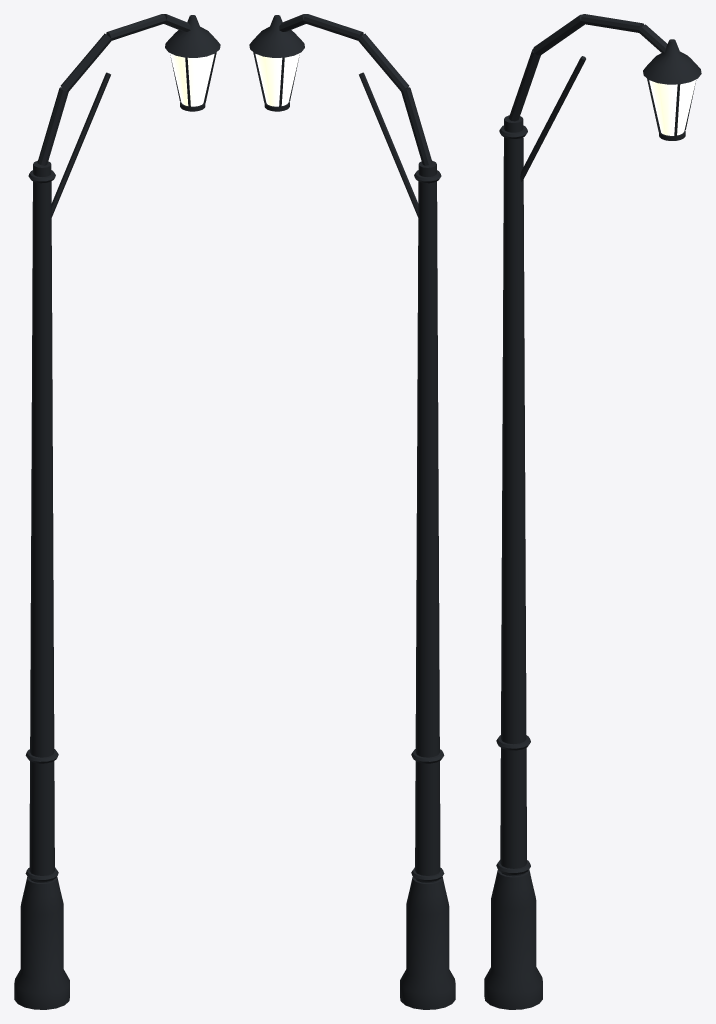
Rendered from poste.glb.
The picture shows the model from 3 angles, left to right: view 1: azimuth 30°, elevation 25°; view 2: azimuth 150°, elevation 25°; view 3: azimuth 330°, elevation 25°; orthographic projection. The views are drawn at different scales.
Parts seen in each view (by area): view 1: fuste, base, vidro, chapeu, voluta, braco, braco.001, braco.002; view 2: fuste, base, vidro, chapeu, voluta, braco, braco.001, braco.002; view 3: fuste, base, vidro, chapeu, voluta, braco, braco.002, braco.001.
Boxes of the visible parts, left/top/right/bottom form: fuste: left=29, top=160, right=54, bottom=882; base: left=14, top=876, right=69, bottom=1009; vidro: left=170, top=53, right=214, bottom=106; chapeu: left=165, top=15, right=220, bottom=57; voluta: left=51, top=72, right=110, bottom=217; braco: left=37, top=87, right=68, bottom=165; braco.001: left=60, top=33, right=111, bottom=91; braco.002: left=106, top=14, right=166, bottom=40; fuste: left=415, top=160, right=440, bottom=882; base: left=400, top=876, right=455, bottom=1009; vidro: left=255, top=53, right=299, bottom=106; chapeu: left=249, top=15, right=304, bottom=57; voluta: left=359, top=72, right=418, bottom=217; braco: left=401, top=87, right=432, bottom=165; braco.001: left=358, top=33, right=409, bottom=91; braco.002: left=303, top=14, right=363, bottom=40; fuste: left=500, top=115, right=526, bottom=876; base: left=484, top=869, right=542, bottom=1009; vidro: left=649, top=79, right=696, bottom=135; chapeu: left=643, top=39, right=701, bottom=84; voluta: left=520, top=56, right=585, bottom=181; braco: left=508, top=49, right=540, bottom=121; braco.002: left=581, top=14, right=643, bottom=32; braco.001: left=533, top=14, right=584, bottom=55.
Size of the model in its own units: 0.9 by 4.12 by 0.22.
